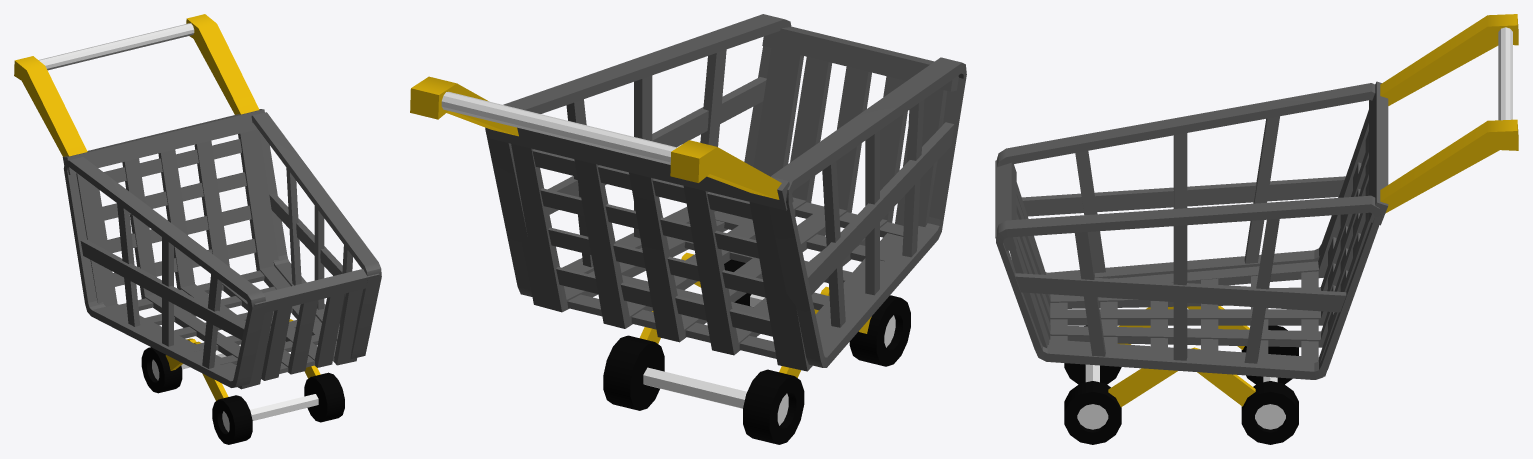
Rendered from Telega.fbx.
3 renders of one model, left to right at view 1: azimuth 30°, elevation 25°; view 2: azimuth 150°, elevation 25°; view 3: azimuth 270°, elevation 25°, orthographic. The views are drawn at different scales.
Visible parts, largest first — view 1: Telega; view 2: Telega; view 3: Telega.
Part boxes in pixels (x1,y1,x2,y2): Telega: (14, 14, 381, 444); Telega: (410, 14, 966, 444); Telega: (995, 14, 1518, 444).
Size of the model in its own units: 127 by 164 by 229.
